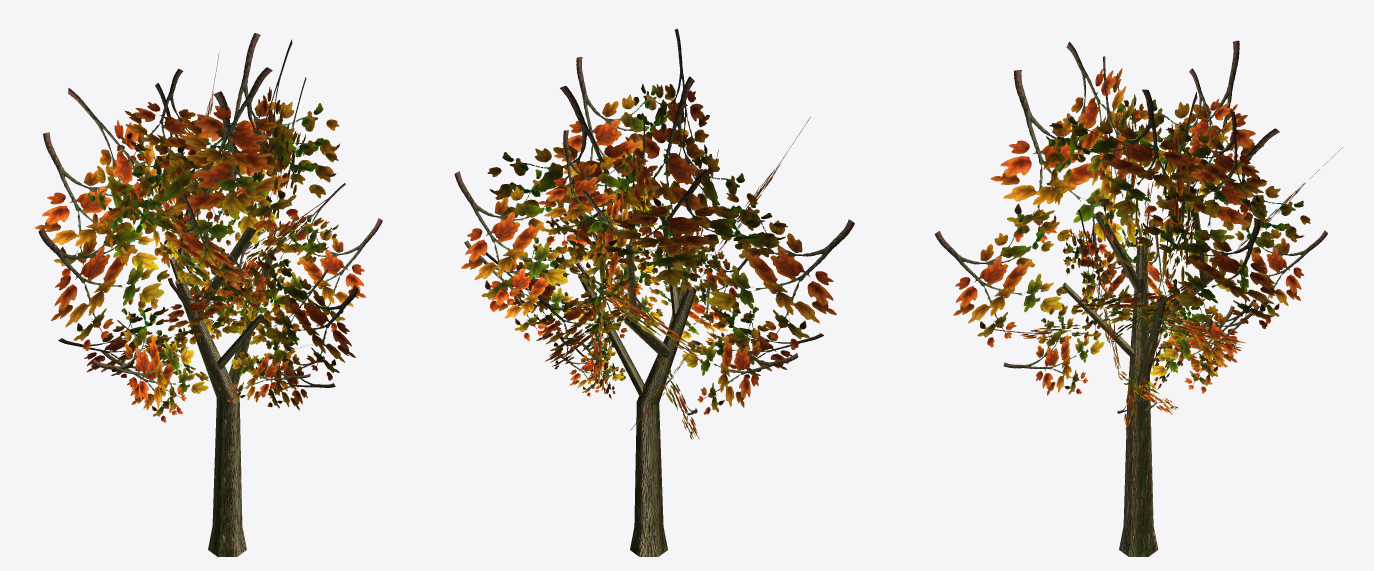
The model's file is Autumn Tree.obj.
The picture shows the model from 3 angles, left to right: view 1: azimuth 30°, elevation 25°; view 2: azimuth 150°, elevation 25°; view 3: azimuth 270°, elevation 25°; orthographic projection. The views are drawn at different scales.
Visible parts, largest first — view 1: MODELS_bin_013:poly001; view 2: MODELS_bin_013:poly001; view 3: MODELS_bin_013:poly001.
Part boxes in pixels (x1,y1,x2,y2): MODELS_bin_013:poly001: [35, 33, 382, 556]; MODELS_bin_013:poly001: [454, 28, 854, 556]; MODELS_bin_013:poly001: [934, 40, 1342, 556].
Size of the model in its own units: 101 by 123 by 94.44.
2 materials, 2 textured.
